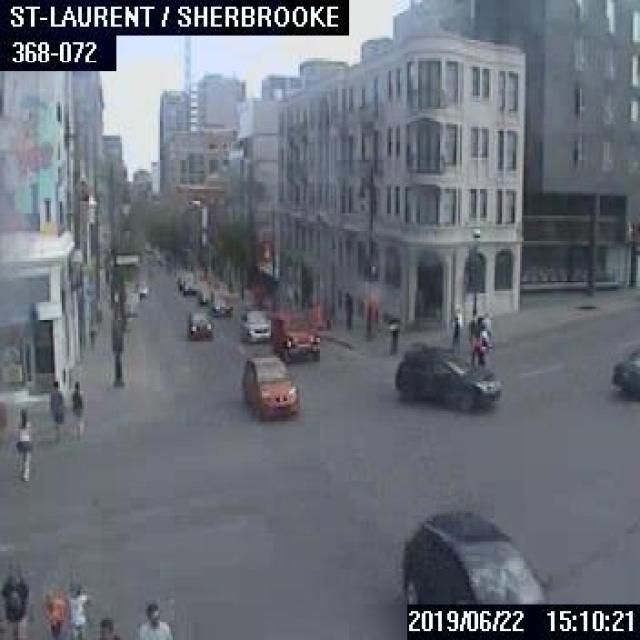pedestrian: (0, 564, 31, 638), (134, 600, 171, 638), (14, 404, 32, 482), (44, 580, 66, 638), (66, 581, 88, 638), (48, 376, 64, 442), (467, 306, 482, 364), (68, 379, 82, 436), (386, 313, 398, 351), (449, 314, 459, 353), (98, 613, 113, 638)
vehicle: (398, 504, 549, 600), (391, 342, 496, 404), (241, 353, 297, 416), (269, 310, 318, 360), (609, 333, 638, 389), (240, 305, 270, 340), (185, 310, 212, 337), (208, 287, 231, 314), (197, 282, 216, 302), (182, 277, 196, 292)
